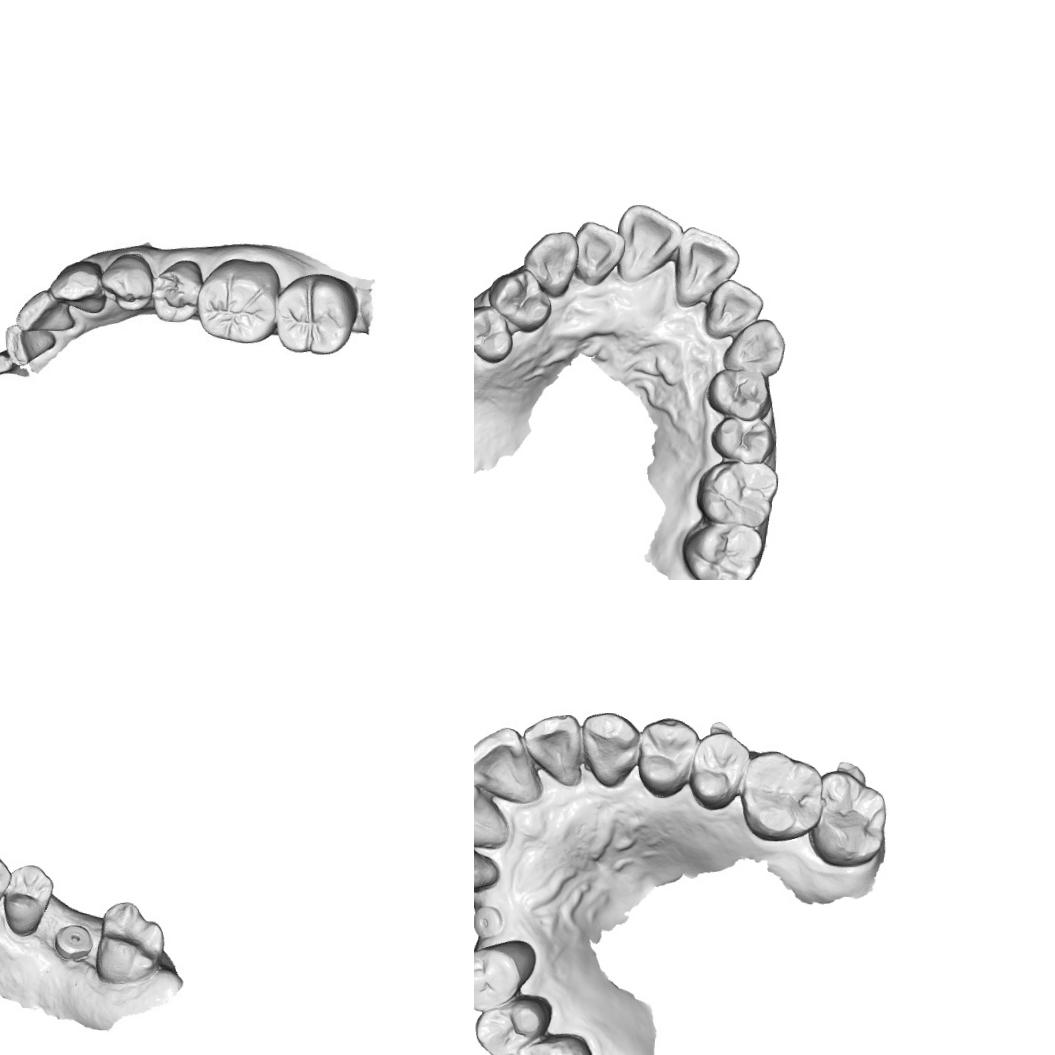canine: (579, 709, 640, 789), (520, 226, 580, 299), (720, 314, 788, 376), (52, 261, 110, 318)
implant: (51, 920, 95, 963), (474, 903, 504, 940)
incisor: (669, 222, 742, 310), (614, 200, 686, 284), (474, 723, 545, 804), (519, 711, 585, 787), (704, 276, 765, 343), (570, 218, 627, 286), (474, 772, 516, 848), (3, 322, 64, 370), (17, 290, 78, 336), (474, 843, 502, 903)
molar: (734, 747, 824, 844), (806, 768, 890, 868), (92, 898, 168, 988), (200, 260, 280, 342), (692, 456, 780, 529), (276, 276, 352, 354), (678, 516, 765, 580), (500, 1031, 593, 1055)
premolar: (684, 728, 750, 812), (634, 715, 699, 799), (474, 935, 538, 1015), (486, 266, 555, 334), (474, 995, 547, 1055), (703, 361, 772, 423), (0, 861, 55, 937), (706, 410, 776, 465), (150, 256, 202, 324), (105, 254, 153, 313), (474, 304, 515, 365), (0, 849, 13, 923)
